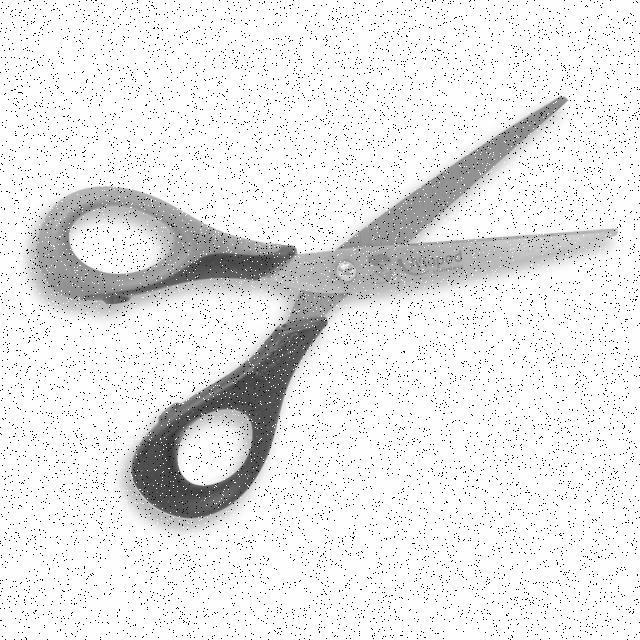scissors: (31, 88, 621, 524)
